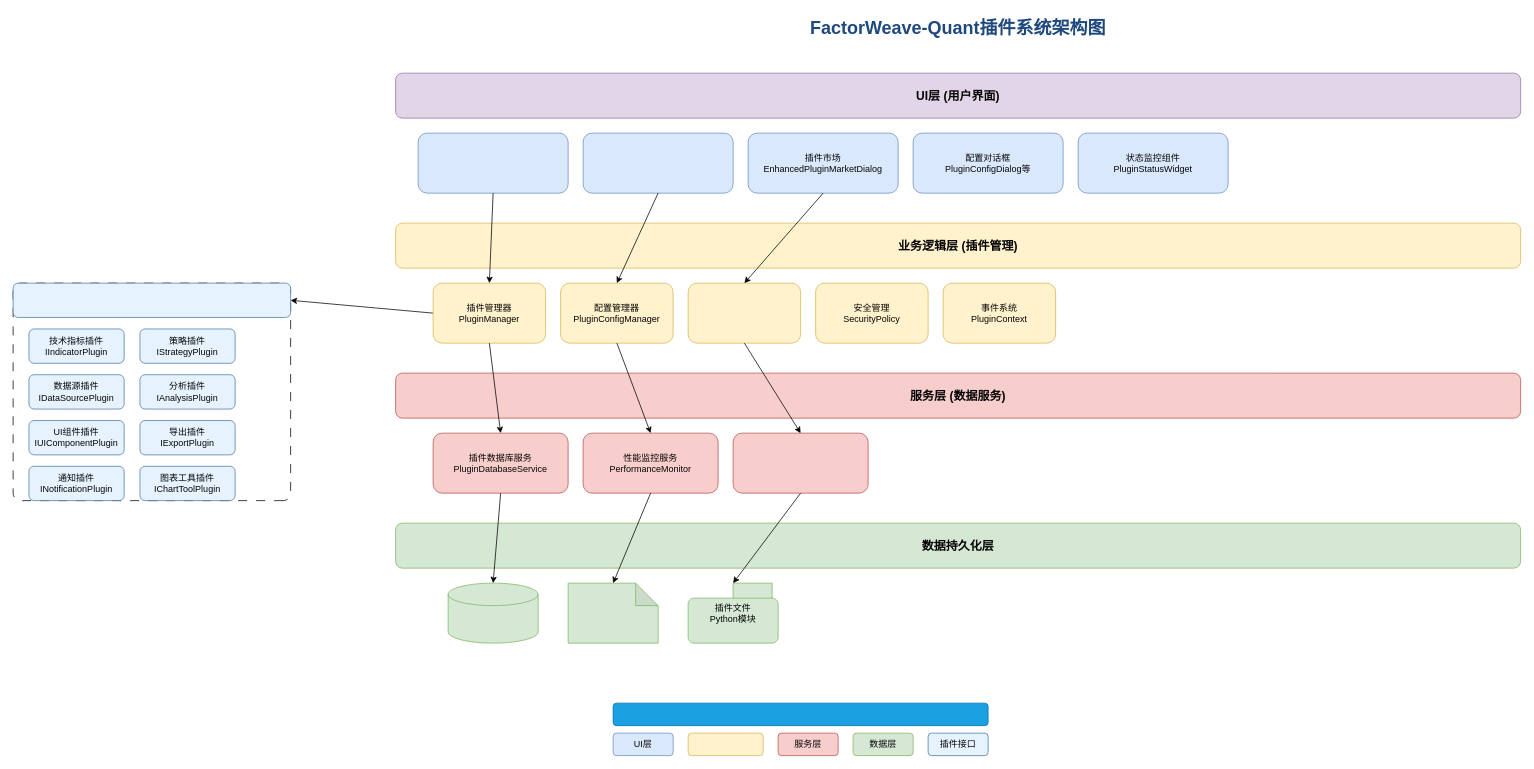
Some shapes in this 1534 by 769 pixel diagram are drawn without their labels. The box of each missing label's shape, as (x1, y1, x2, y2) in pixels:
SQLite数据库 factorweave_system.db: (447, 582, 538, 643)
业务逻辑层: (687, 732, 763, 756)
图例: (612, 702, 988, 726)
基础插件管理器 PluginManagerDialog: (582, 132, 733, 193)
增强型插件管理器 EnhancedPluginManagerDialog: (417, 132, 568, 193)
插件市场 PluginMarket: (687, 282, 801, 343)
插件接口层: (12, 282, 291, 317)
缓存服务 CacheManager: (732, 432, 868, 493)
配置文件 YAML/JSON: (567, 582, 658, 643)
